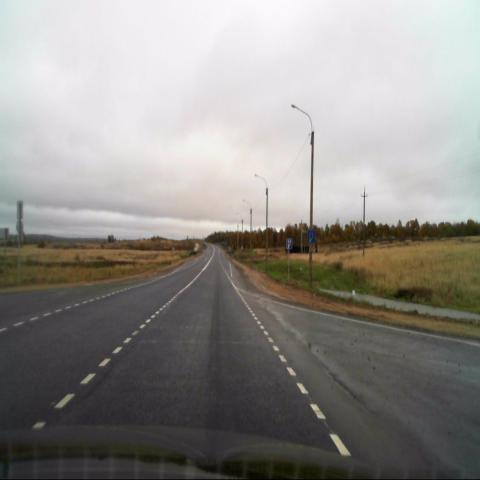5_15_3: (308, 229, 315, 243)
